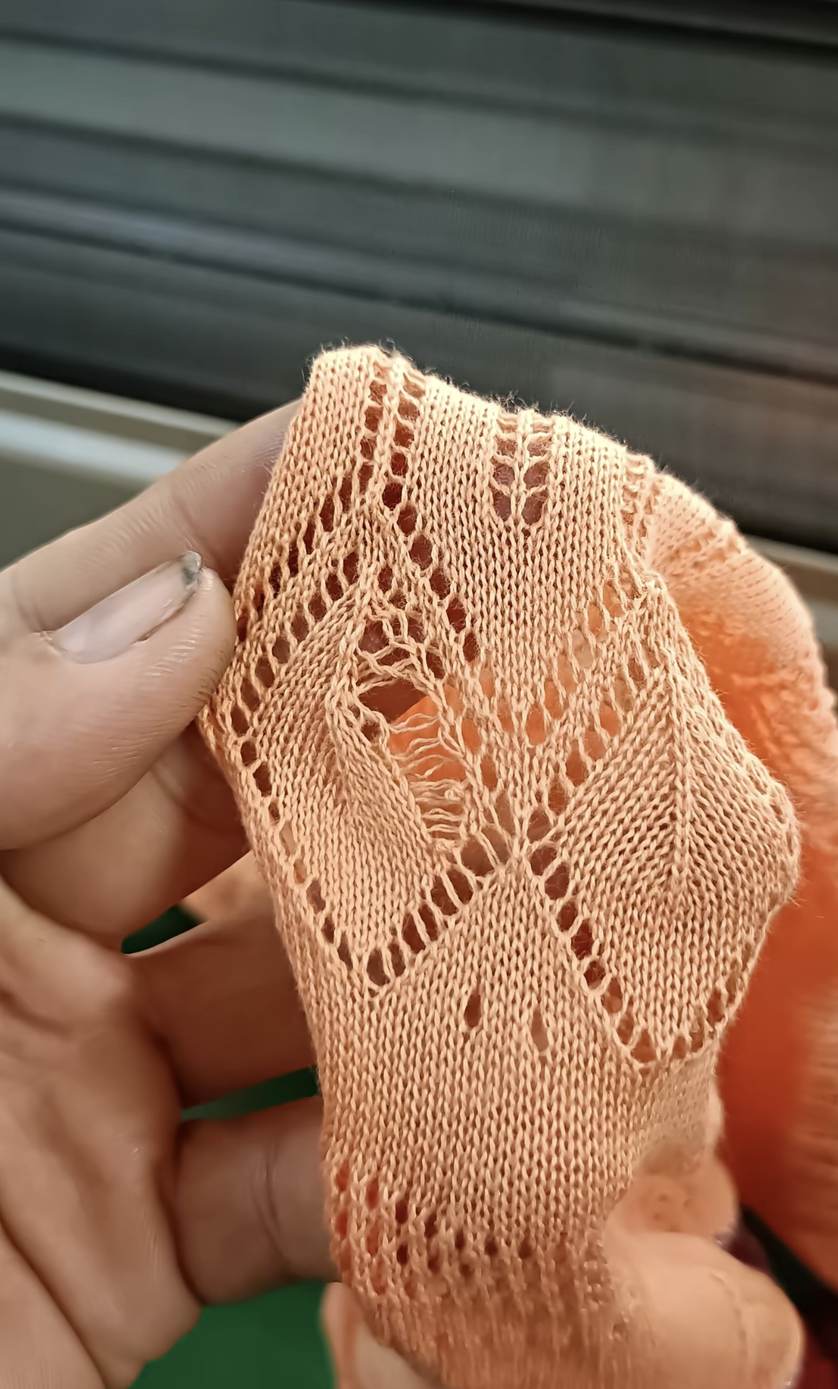missing_stitch_2: (353, 596, 476, 870)
